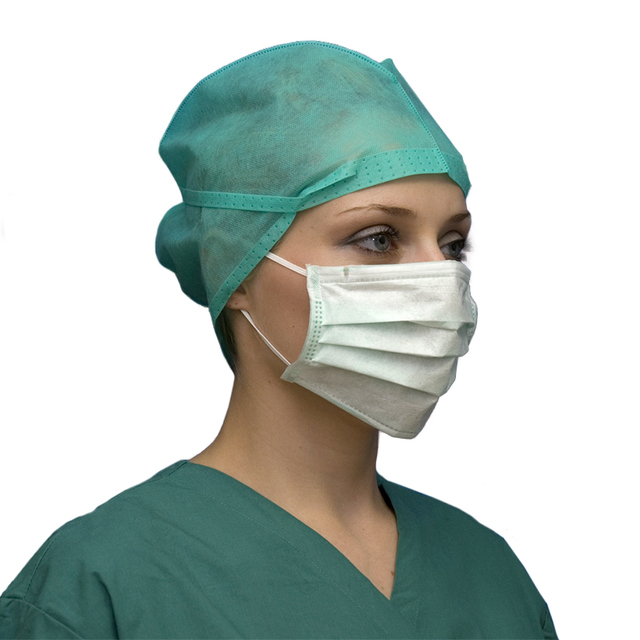mask: (306, 275, 477, 433)
